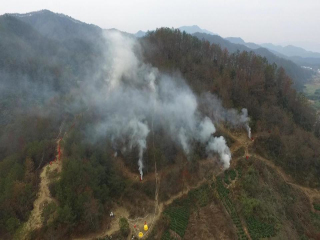smoke: (74, 30, 254, 176)
